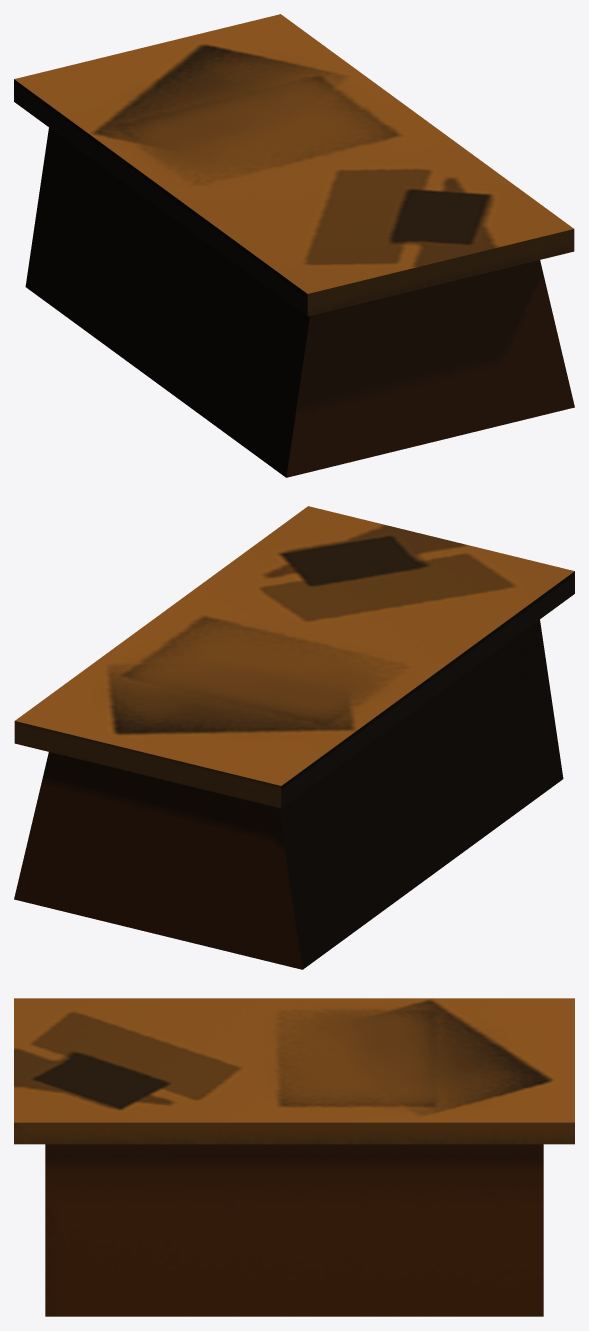
File: Tx_prop_desk_computing.fbx
3 renders of one model, top to bottom at view 1: azimuth 30°, elevation 25°; view 2: azimuth 150°, elevation 25°; view 3: azimuth 270°, elevation 25°, orthographic. The views are drawn at different scales.
Visible parts, largest first — view 1: Tx_prop_desk_computing; view 2: Tx_prop_desk_computing; view 3: Tx_prop_desk_computing.
Boxes of the visible parts, x1,y1,x2,y2 form: Tx_prop_desk_computing: (14,14,574,477); Tx_prop_desk_computing: (14,506,574,969); Tx_prop_desk_computing: (14,998,574,1316).
Bounding box in the file's own units: 5.85 × 3.77 × 10.31.
